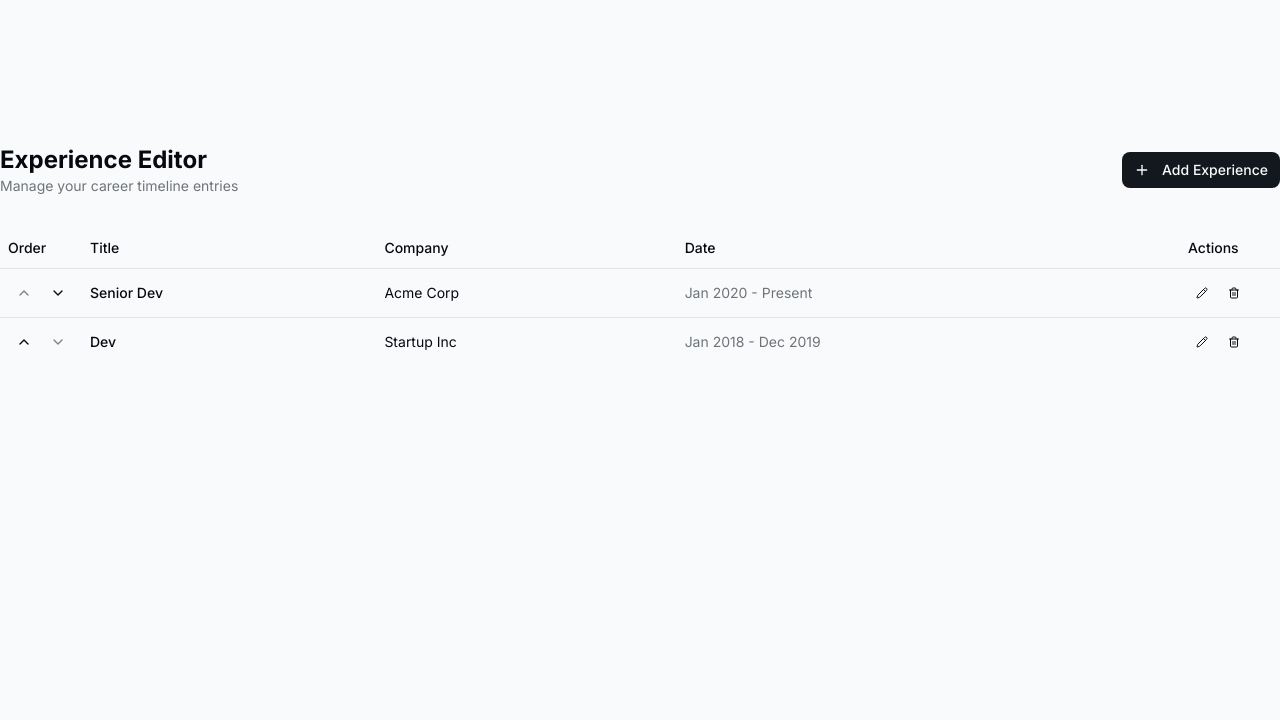
ExperienceEditor › opens edit dialog with pre-filled data
Note: Row 0 is header, row 1 is first data row
Click the button named "Edit experience" in the row of "Senior Dev": (1202, 292) [1188,278,1216,306]
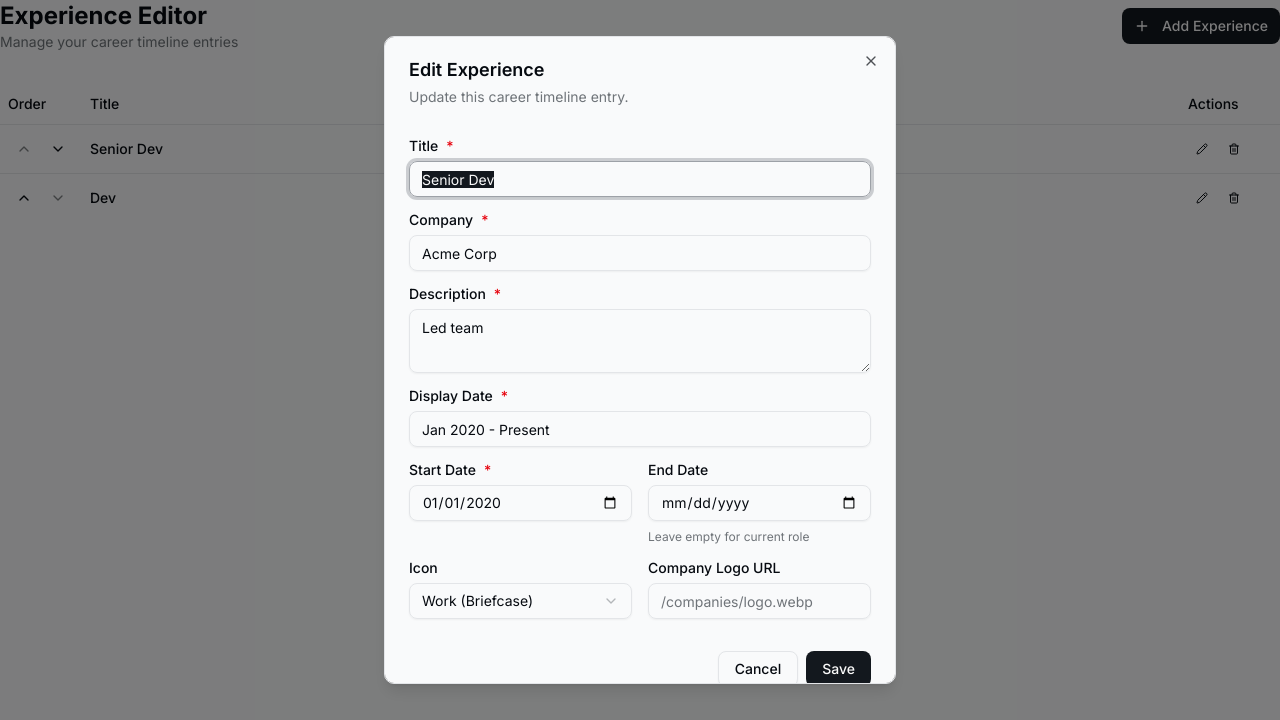
Result: the heading "Edit Experience" is shown at [409,59,544,80]
Result: the field labelled "Title *" holds "Senior Dev" at [409,161,871,197]
Result: the field labelled "Company *" holds "Acme Corp" at [409,235,871,271]
